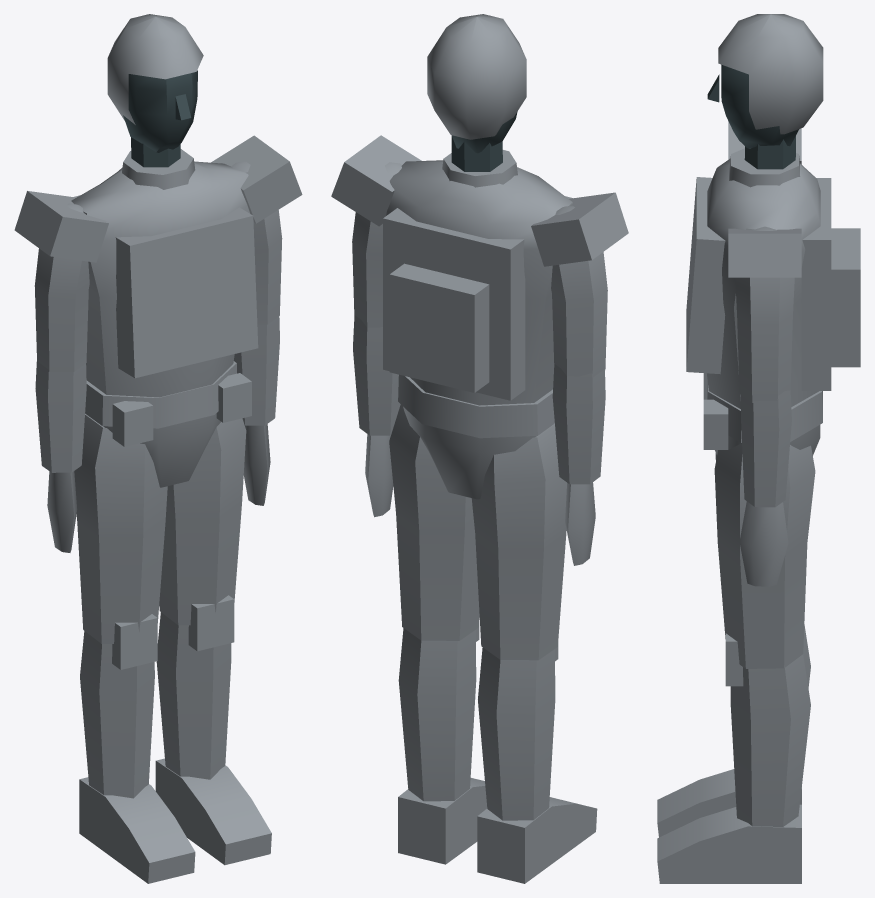
File: guard.glb
3 views of the same model, side by side, from view 1: azimuth 30°, elevation 25°; view 2: azimuth 150°, elevation 25°; view 3: azimuth 270°, elevation 25° (orthographic). The views are drawn at different scales.
Visible parts, largest first — view 1: torso, shin_r, shin_l, leg_r, leg_l, arm_r, hips, forearm_r, arm_l, helmet, head, forearm_l; view 2: torso, shin_r, leg_r, shin_l, leg_l, arm_r, helmet, hips, forearm_r, arm_l, forearm_l, head; view 3: torso, shin_l, leg_l, arm_l, helmet, forearm_l, head, hips, shin_r, arm_r.
Part boxes in pixels (x1,y1,x2,y2): torso: (71,149,258,397); shin_r: (79,614,195,883); shin_l: (155,595,271,865); leg_r: (74,413,167,643); leg_l: (159,418,246,625); arm_r: (14,191,108,371); hips: (85,361,251,487); forearm_r: (35,361,86,552); arm_l: (211,135,302,324); helmet: (107,14,203,124); head: (123,70,197,167); forearm_l: (234,316,279,505); torso: (383,150,572,405); shin_r: (477,643,597,883); leg_r: (471,423,566,660); shin_l: (398,622,487,864); leg_l: (389,404,479,640); arm_r: (531,192,628,377); helmet: (427,14,526,139); hips: (398,374,554,499); forearm_r: (552,364,605,565); arm_l: (331,135,421,327); forearm_l: (353,315,400,517); head: (451,111,517,171); torso: (686,148,860,408); shin_l: (657,633,810,883); leg_l: (714,443,815,668); arm_l: (728,226,801,402); helmet: (718,14,823,134); forearm_l: (739,390,791,586); head: (707,64,799,169); hips: (703,373,822,455); shin_r: (657,624,810,837); arm_r: (728,121,801,164).
Size of the model in its own units: 0.6135 by 1.89 by 0.4146.
